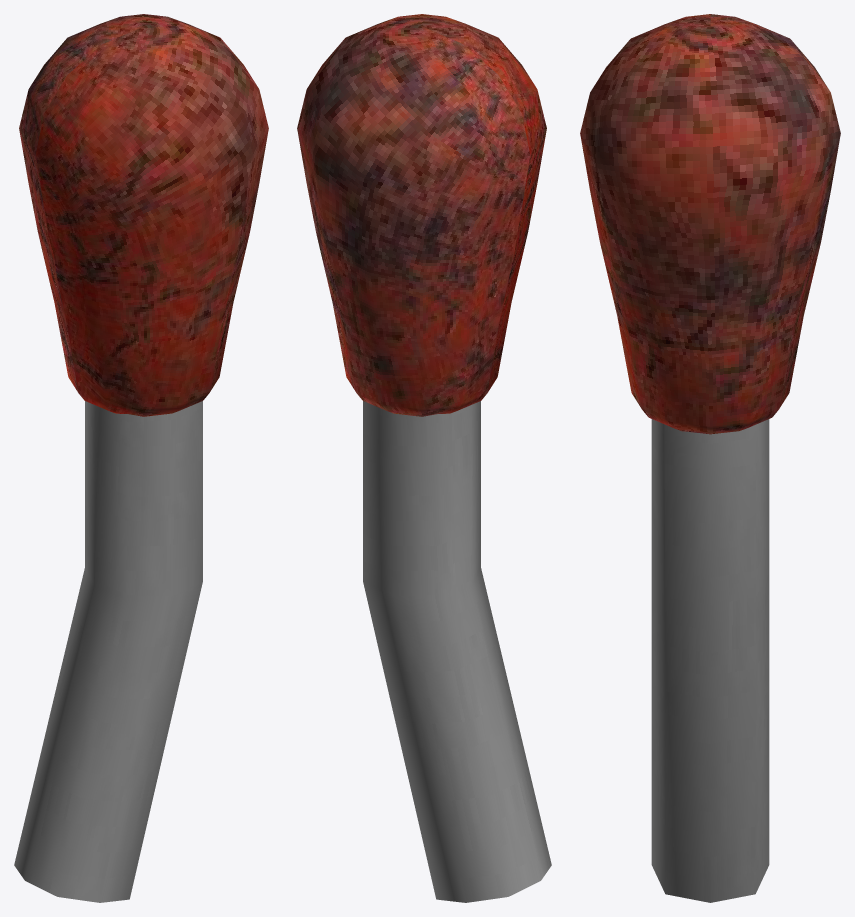
File: lever.glb
3 views of the same model, side by side, from view 1: azimuth 30°, elevation 25°; view 2: azimuth 150°, elevation 25°; view 3: azimuth 270°, elevation 25° (orthographic). The views are drawn at different scales.
Visible parts, largest first — view 1: Lever; view 2: Lever; view 3: Lever.
Boxes of the visible parts, bbox=[...] form: Lever: bbox=[14, 14, 268, 902]; Lever: bbox=[297, 14, 551, 902]; Lever: bbox=[580, 14, 840, 902].
Size of the model in its own units: 0.1231 by 0.4408 by 0.1172.
Materials: 2 (2 with a texture image).
